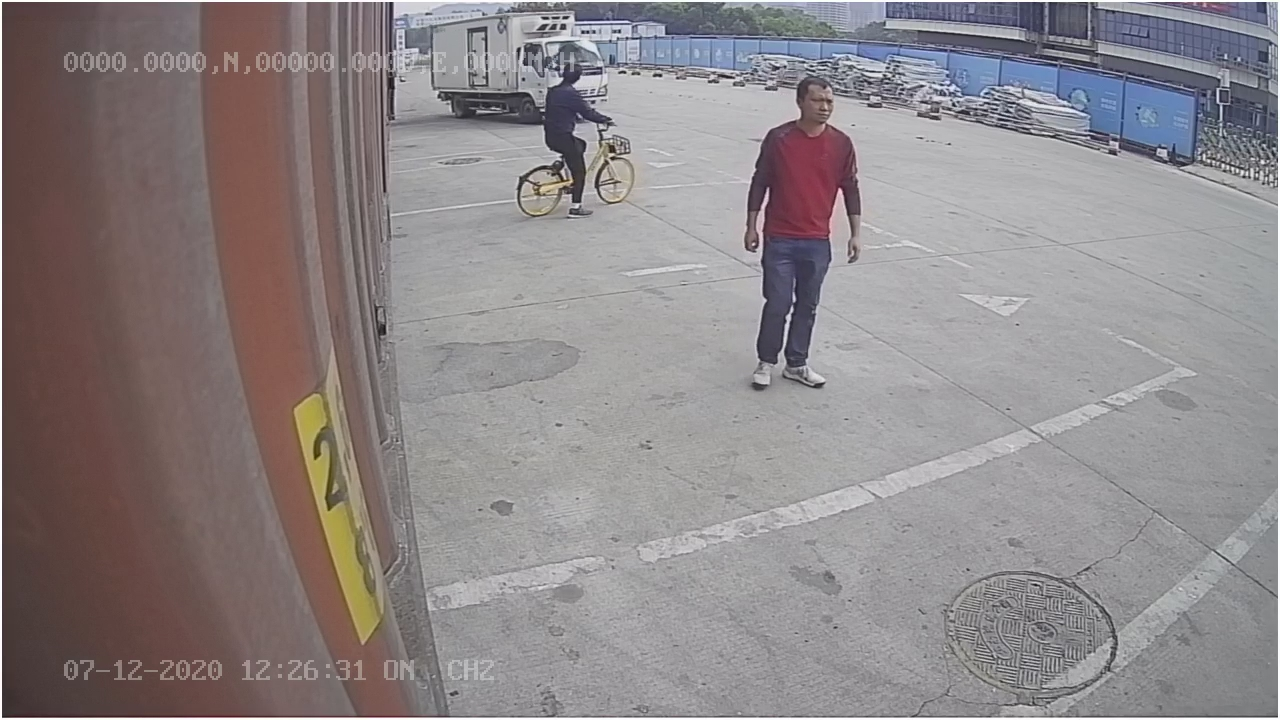person: (738, 71, 864, 393)
